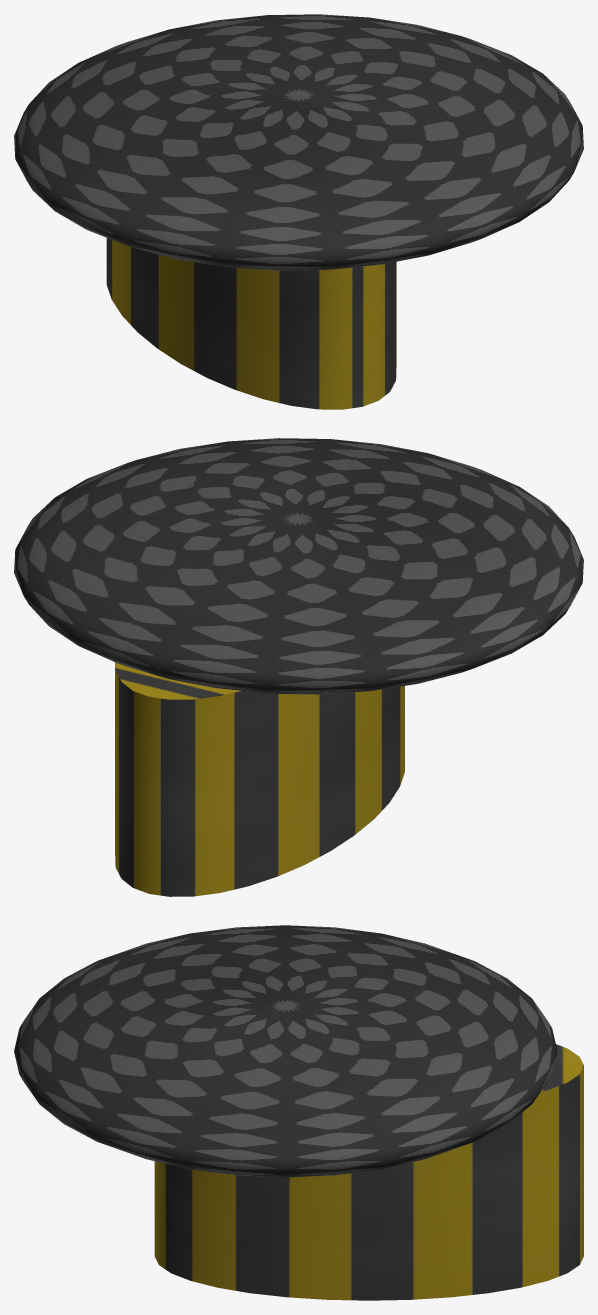
The model's file is table1.glb.
The picture shows the model from 3 angles, top to bottom: view 1: azimuth 30°, elevation 25°; view 2: azimuth 150°, elevation 25°; view 3: azimuth 270°, elevation 25°; orthographic projection. The views are drawn at different scales.
Size of the model in its own units: 2.64 by 1.32 by 2.71.
2 materials, 2 textured.
